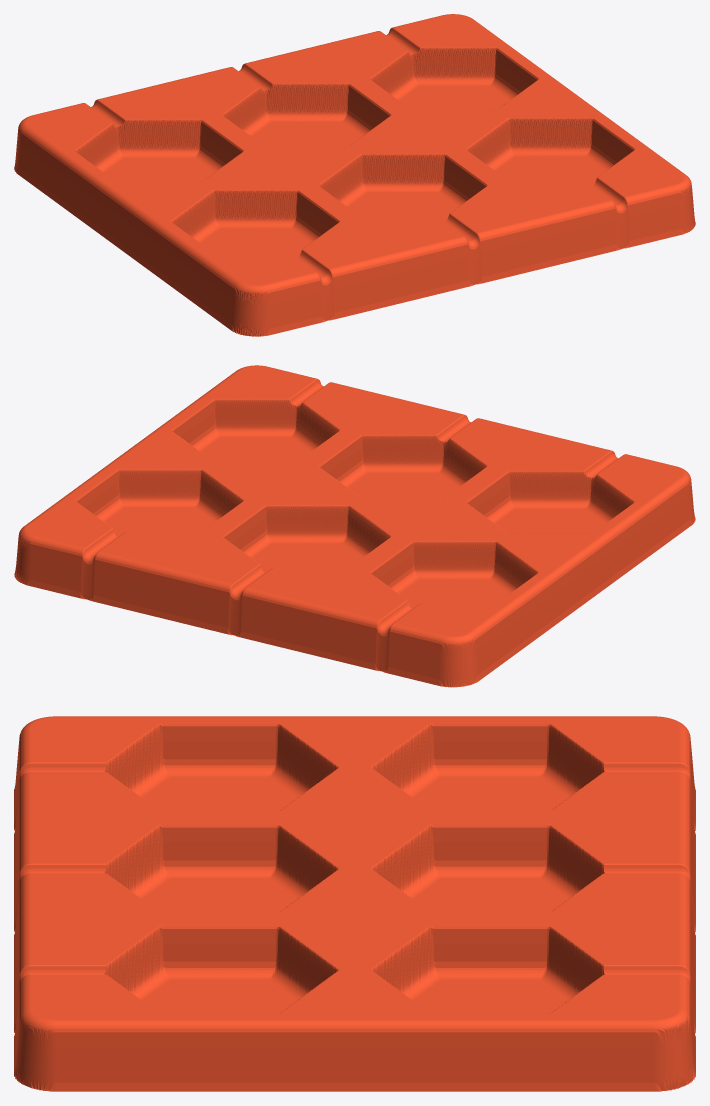
File: mold.glb
3 views of the same model, one above another, from view 1: azimuth 30°, elevation 25°; view 2: azimuth 150°, elevation 25°; view 3: azimuth 270°, elevation 25° (orthographic). The views are drawn at different scales.
Visible parts, largest first — view 1: geometry_0; view 2: geometry_0; view 3: geometry_0.
Boxes of the visible parts, x1,y1,x2,y2 form: geometry_0: (14, 14, 695, 336); geometry_0: (14, 365, 695, 687); geometry_0: (14, 716, 695, 1091).
Bounding box in the file's own units: 0.1621 × 0.0155 × 0.1477.
